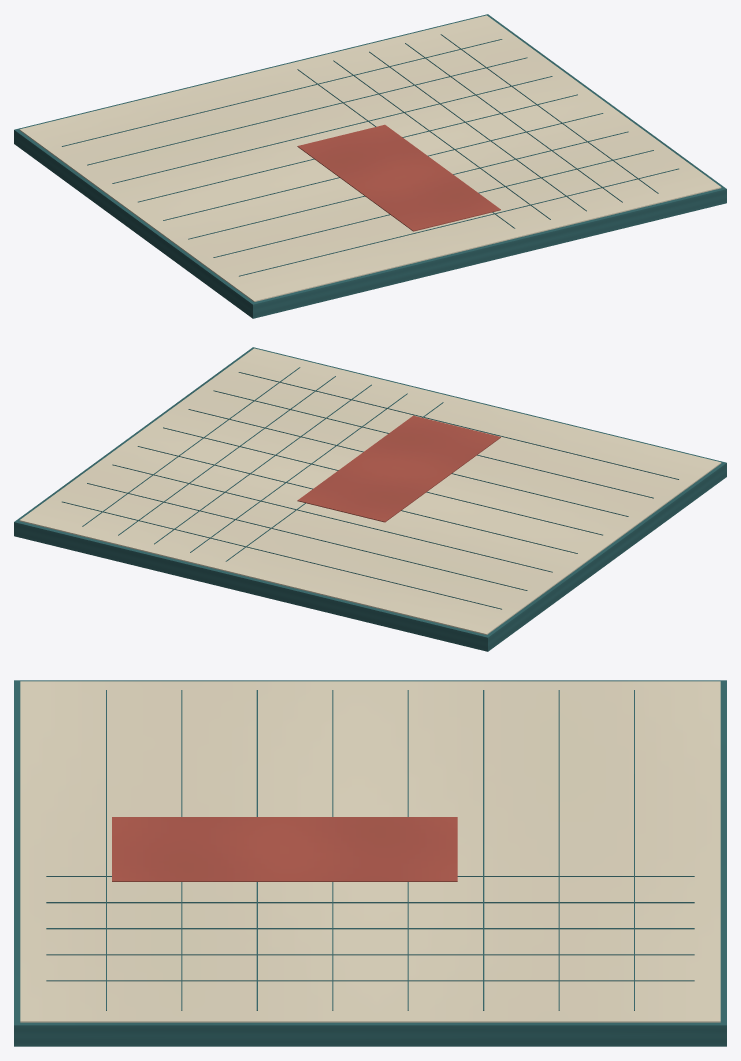
File: atlas100-s036-a07.lod2.glb
3 views of the same model, one above another, from view 1: azimuth 30°, elevation 25°; view 2: azimuth 150°, elevation 25°; view 3: azimuth 270°, elevation 25° (orthographic). The views are drawn at different scales.
Visible parts, largest first — view 1: atlas100-s036-a07:part-001, atlas100-s036-a07:part-000, atlas100-s036-a07:part-021, atlas100-s036-a07:part-014, atlas100-s036-a07:part-020, atlas100-s036-a07:part-015, atlas100-s036-a07:part-013, atlas100-s036-a07:part-018, atlas100-s036-a07:part-019, atlas100-s036-a07:part-017, atlas100-s036-a07:part-016; view 2: atlas100-s036-a07:part-001, atlas100-s036-a07:part-000, atlas100-s036-a07:part-021, atlas100-s036-a07:part-015, atlas100-s036-a07:part-013, atlas100-s036-a07:part-014, atlas100-s036-a07:part-020, atlas100-s036-a07:part-016, atlas100-s036-a07:part-017, atlas100-s036-a07:part-018, atlas100-s036-a07:part-019; view 3: atlas100-s036-a07:part-001, atlas100-s036-a07:part-000, atlas100-s036-a07:part-021, atlas100-s036-a07:part-009, atlas100-s036-a07:part-010, atlas100-s036-a07:part-011, atlas100-s036-a07:part-012, atlas100-s036-a07:part-014, atlas100-s036-a07:part-015.
Part boxes in pixels (x1,y1,x2,y2): atlas100-s036-a07:part-001: (19, 15, 721, 301); atlas100-s036-a07:part-000: (14, 14, 726, 318); atlas100-s036-a07:part-021: (297, 124, 500, 231); atlas100-s036-a07:part-014: (87, 57, 527, 165); atlas100-s036-a07:part-020: (239, 168, 678, 276); atlas100-s036-a07:part-015: (112, 76, 552, 183); atlas100-s036-a07:part-013: (62, 39, 502, 146); atlas100-s036-a07:part-018: (188, 131, 628, 239); atlas100-s036-a07:part-019: (213, 150, 653, 257); atlas100-s036-a07:part-017: (163, 113, 603, 220); atlas100-s036-a07:part-016: (138, 94, 577, 202); atlas100-s036-a07:part-001: (19, 348, 721, 634); atlas100-s036-a07:part-000: (14, 347, 726, 651); atlas100-s036-a07:part-021: (297, 415, 500, 522); atlas100-s036-a07:part-015: (112, 464, 552, 572); atlas100-s036-a07:part-013: (62, 501, 501, 609); atlas100-s036-a07:part-014: (87, 483, 527, 590); atlas100-s036-a07:part-020: (238, 372, 678, 479); atlas100-s036-a07:part-016: (137, 446, 577, 553); atlas100-s036-a07:part-017: (163, 427, 602, 535); atlas100-s036-a07:part-018: (188, 409, 628, 516); atlas100-s036-a07:part-019: (213, 390, 653, 498); atlas100-s036-a07:part-001: (20, 681, 720, 1022); atlas100-s036-a07:part-000: (14, 680, 726, 1046); atlas100-s036-a07:part-021: (112, 817, 457, 881); atlas100-s036-a07:part-009: (46, 902, 694, 903); atlas100-s036-a07:part-010: (46, 928, 694, 929); atlas100-s036-a07:part-011: (46, 954, 694, 955); atlas100-s036-a07:part-012: (46, 980, 694, 981); atlas100-s036-a07:part-014: (558, 690, 559, 1010); atlas100-s036-a07:part-015: (483, 690, 484, 1010).
Size of the model in its own units: 11.9 by 0.404 by 10.4.
3 materials, 3 textured.
